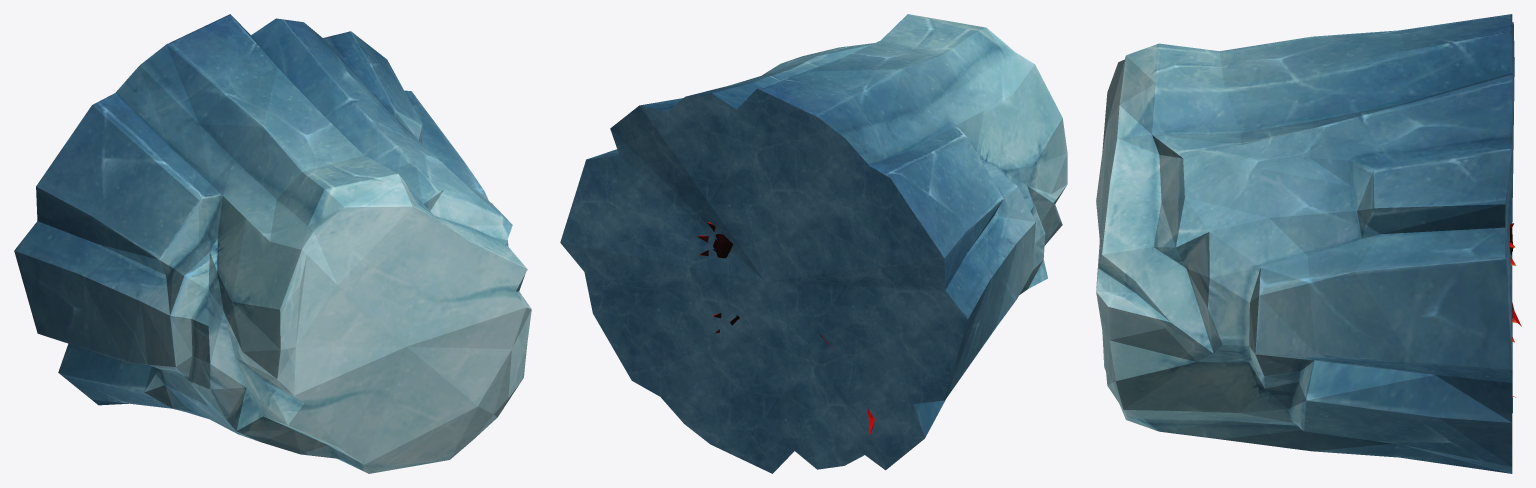
File: huodong_fuben_610_wangzuo_bing.obj
3 views of the same model, side by side, from view 1: azimuth 30°, elevation 25°; view 2: azimuth 150°, elevation 25°; view 3: azimuth 270°, elevation 25° (orthographic). The views are drawn at different scales.
Parts seen in each view (by area): view 1: bingkuaian; view 2: dimian, bingkuaian, objhuodong_fuben_610_wangzuo_queen; view 3: bingkuaian, dimian.
Boxes of the visible parts, left/top/right/bottom form: bingkuaian: left=14, top=14, right=531, bottom=473; dimian: left=560, top=89, right=967, bottom=473; bingkuaian: left=567, top=14, right=1067, bottom=469; objhuodong_fuben_610_wangzuo_queen: left=697, top=222, right=874, bottom=437; bingkuaian: left=1096, top=14, right=1514, bottom=473; dimian: left=1505, top=23, right=1514, bottom=412.
Bounding box in the file's own units: 542 × 485 × 433.
Materials: 3 (3 with a texture image).
